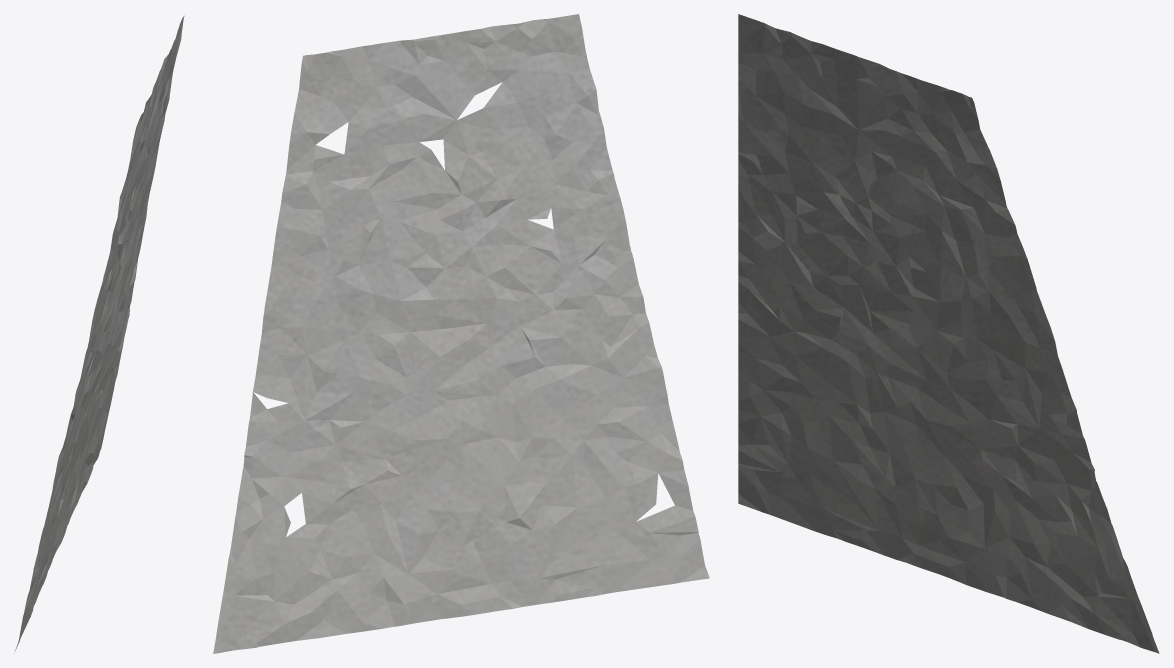
3 renders of one model, left to right at view 1: azimuth 30°, elevation 25°; view 2: azimuth 150°, elevation 25°; view 3: azimuth 270°, elevation 25°, orthographic. The views are drawn at different scales.
Size of the model in its own units: 0.4854 by 0.8374 by 0.5748.
Materials: 2 (2 with a texture image).
